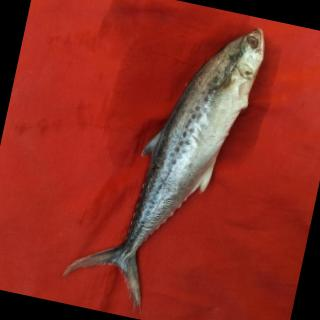Ikan: (52, 1, 289, 320)
